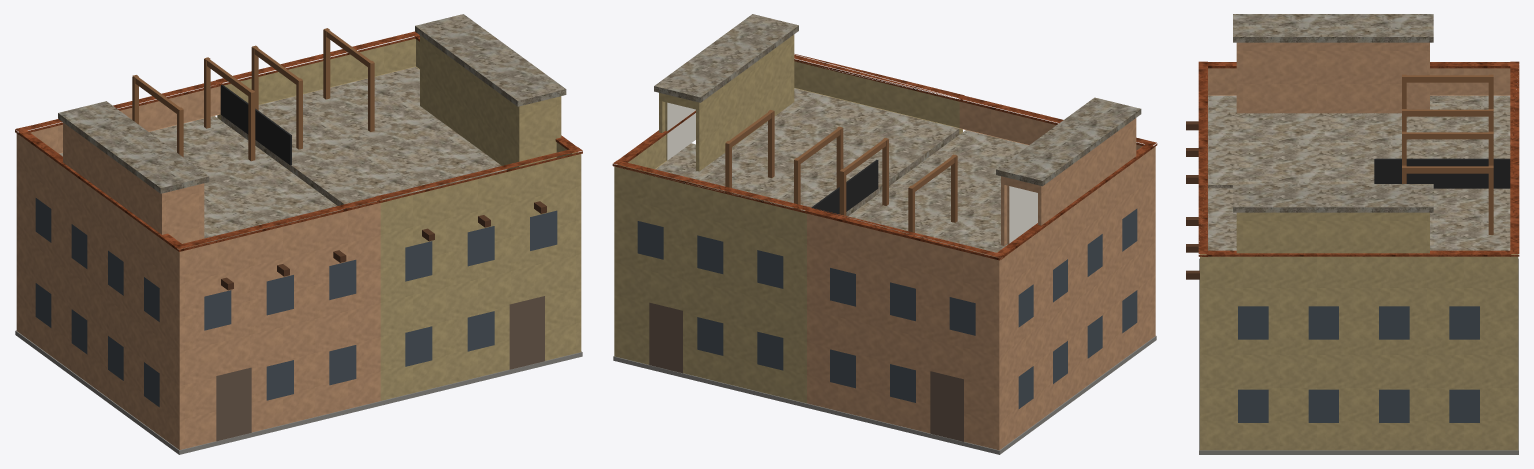
Rendered from cr-stucco-duplex.zfix-v22.lod1.glb.
3 views of the same model, side by side, from view 1: azimuth 30°, elevation 25°; view 2: azimuth 150°, elevation 25°; view 3: azimuth 270°, elevation 25° (orthographic). The views are drawn at different scales.
Parts seen in each view (by area): view 1: cr-stucco-duplex; view 2: cr-stucco-duplex; view 3: cr-stucco-duplex.
Boxes of the visible parts, x1,y1,x2,y2 form: cr-stucco-duplex: (15,14,582,454); cr-stucco-duplex: (612,14,1157,454); cr-stucco-duplex: (1186,14,1519,454).
Size of the model in its own units: 14.94 by 8.95 by 10.91.
3 materials, 2 textured.
